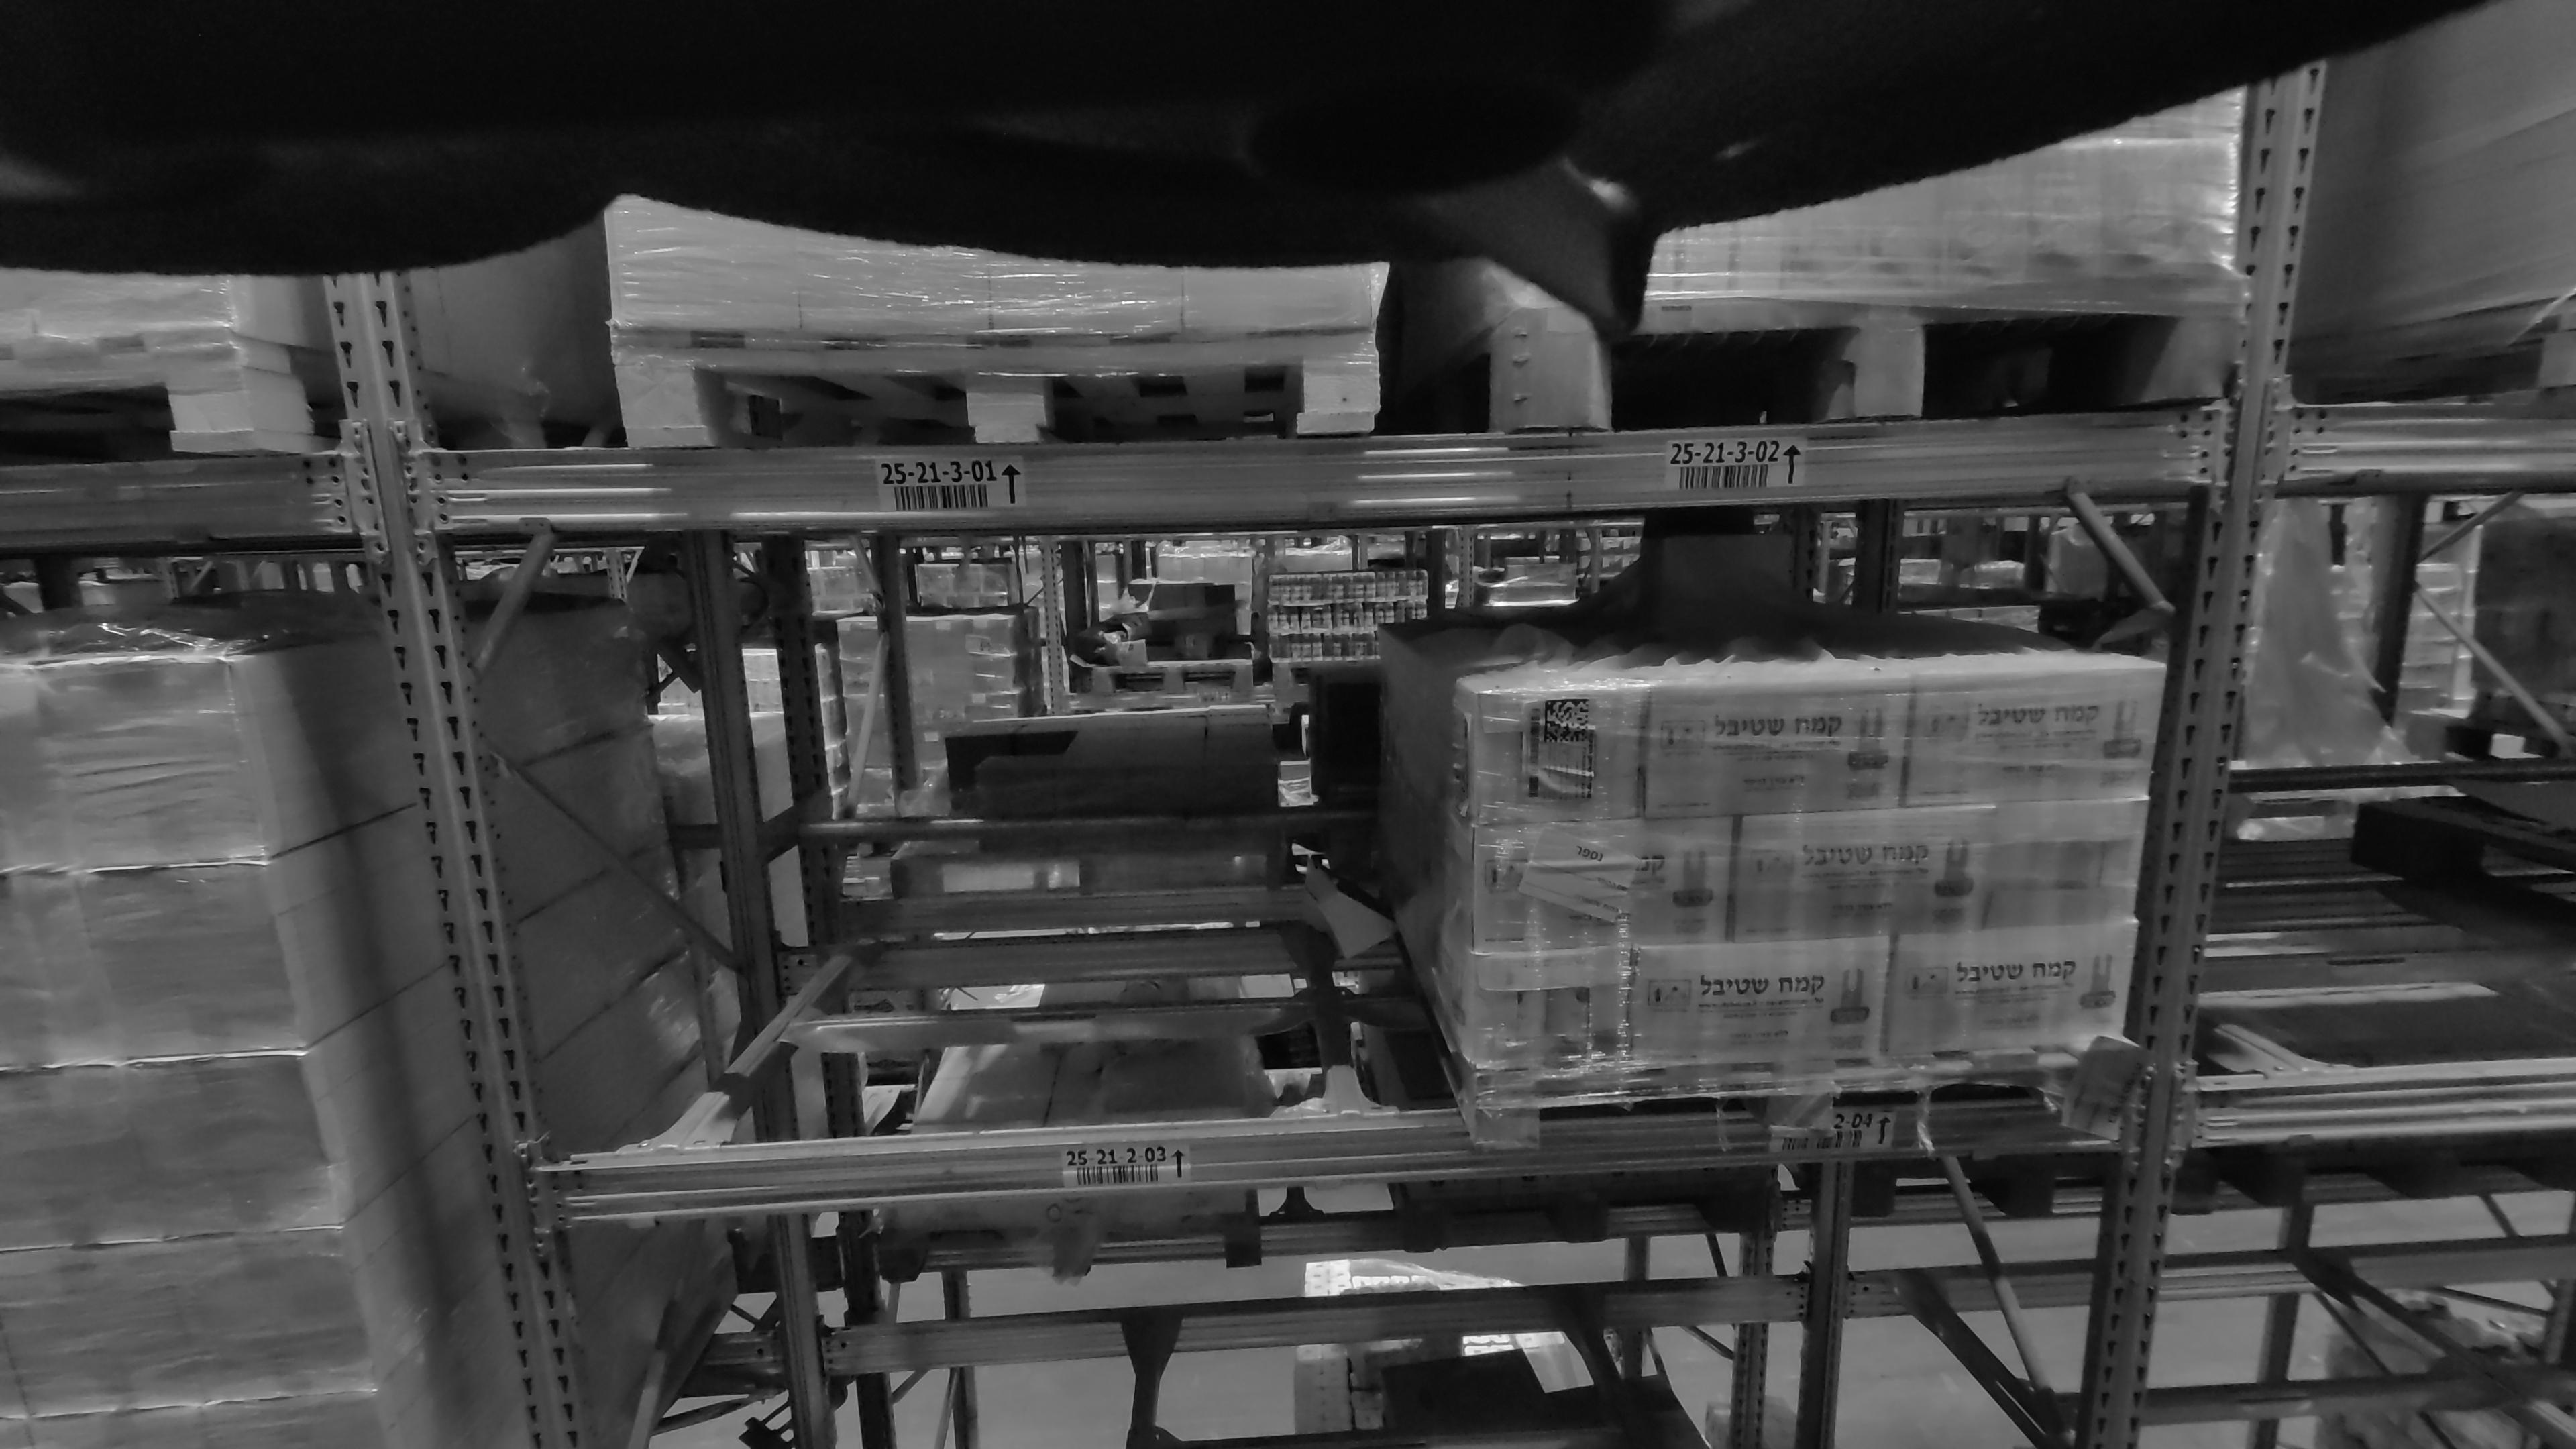empty-shelf: (568, 550, 1391, 1118), (2272, 502, 2574, 1076)
